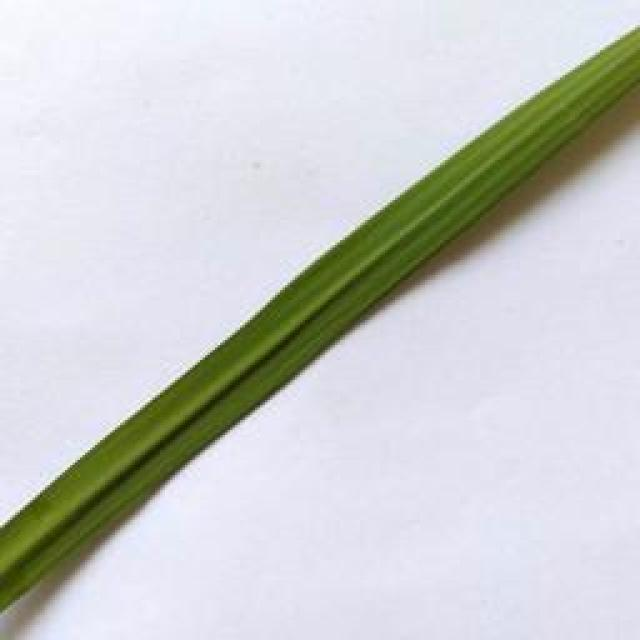Healthy-Plant: (0, 22, 640, 608)
